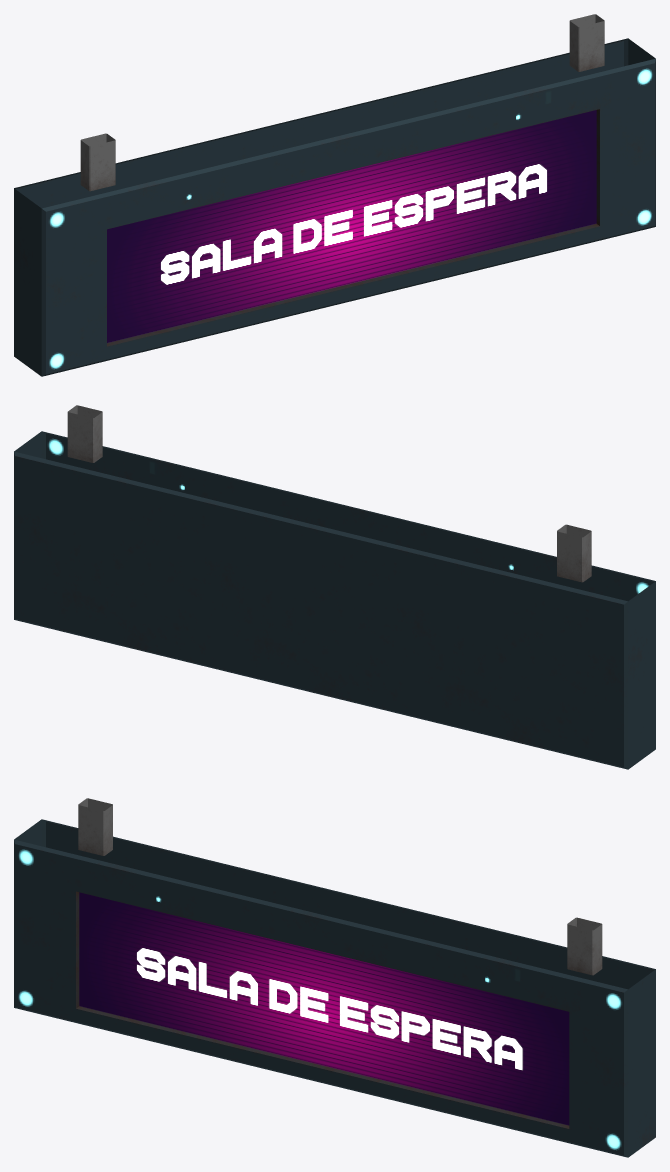
Rendered from TX_Cartel B_ESC.fbx.
The picture shows the model from 3 angles, top to bottom: view 1: azimuth 30°, elevation 25°; view 2: azimuth 150°, elevation 25°; view 3: azimuth 330°, elevation 25°; orthographic projection.
Visible parts, largest first — view 1: obj_cartel_b; view 2: obj_cartel_b; view 3: obj_cartel_b.
Boxes of the visible parts, x1,y1,x2,y2 form: obj_cartel_b: [14, 14, 655, 376]; obj_cartel_b: [14, 405, 655, 769]; obj_cartel_b: [14, 798, 655, 1157].
Size of the model in its own units: 217 by 71.11 by 18.85.
Materials: 1 (1 with a texture image).
